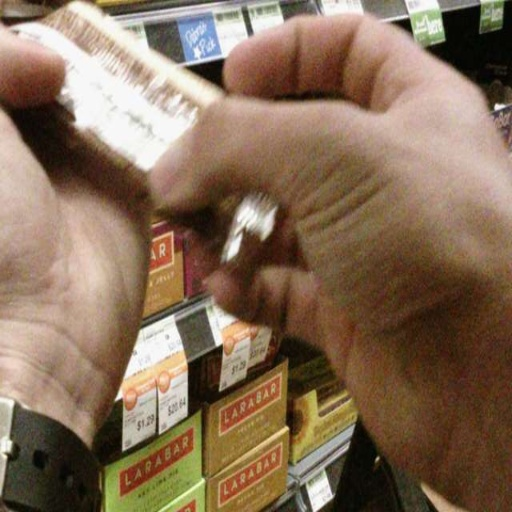hand: (92, 22, 504, 448), (0, 16, 153, 427)
